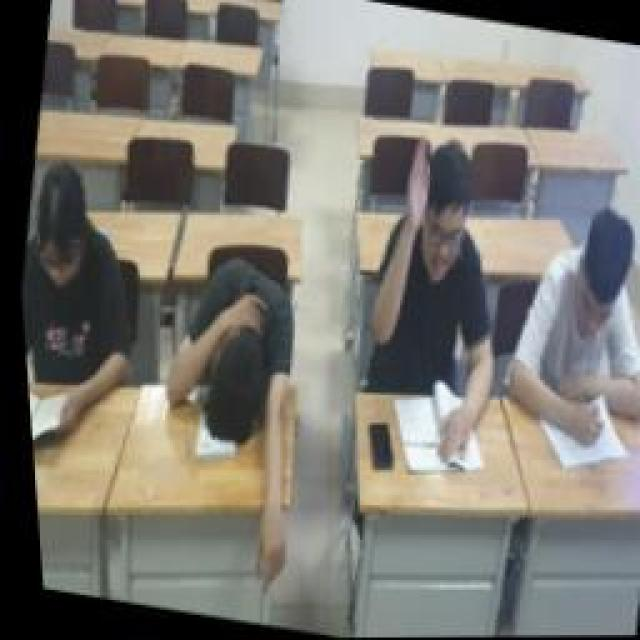sleep: (122, 245, 328, 585)
study: (330, 130, 535, 482), (10, 155, 168, 465), (490, 198, 640, 462)
